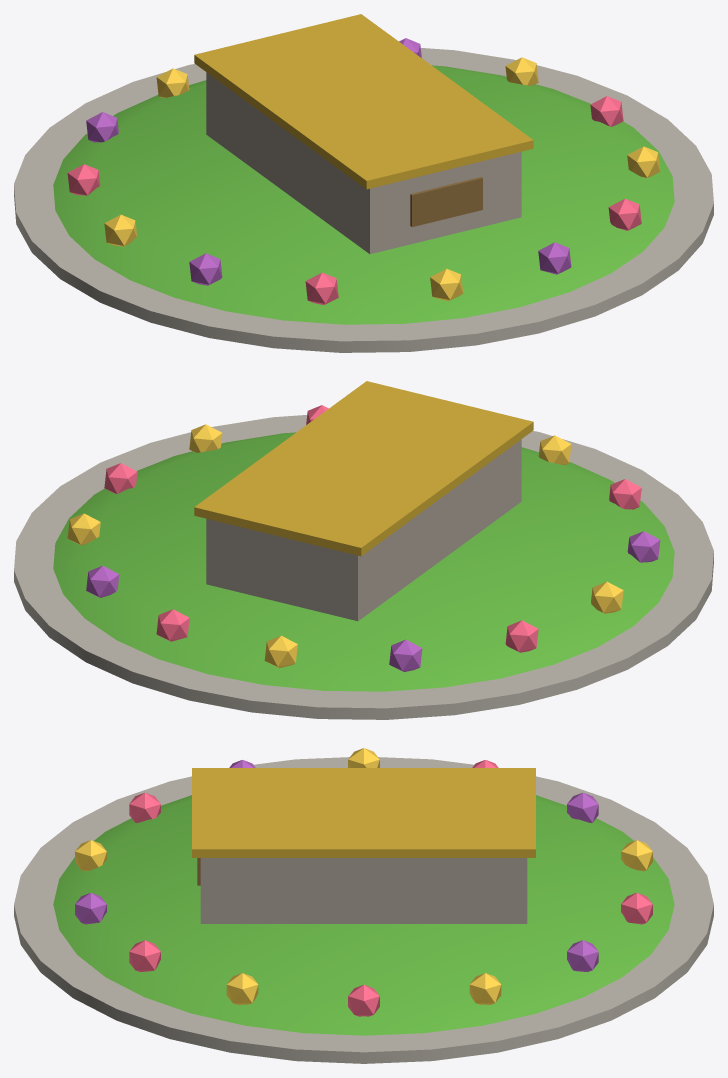
File: town_circle.glb
3 views of the same model, one above another, from view 1: azimuth 30°, elevation 25°; view 2: azimuth 150°, elevation 25°; view 3: azimuth 270°, elevation 25° (orthographic).
Parts seen in each view (by area): view 1: TownCircle_body; view 2: TownCircle_body; view 3: TownCircle_body.
Boxes of the visible parts, x1,y1,x2,y2 form: TownCircle_body: [14, 14, 713, 352]; TownCircle_body: [14, 381, 713, 719]; TownCircle_body: [14, 748, 713, 1063].
Size of the model in its own units: 12 by 2.03 by 12.
